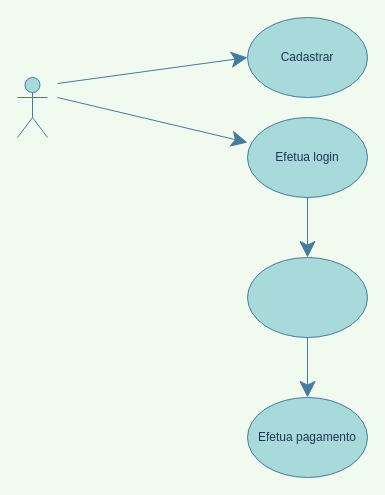
The diagram is 385 pixels wide and 495 high, and some of its shapes have lost their labels. The box of each missing label's shape, as (x1, y1, x2, y2) in pixels:
Actor: (16, 76, 48, 138)
Seleciona produto: (246, 256, 368, 338)
